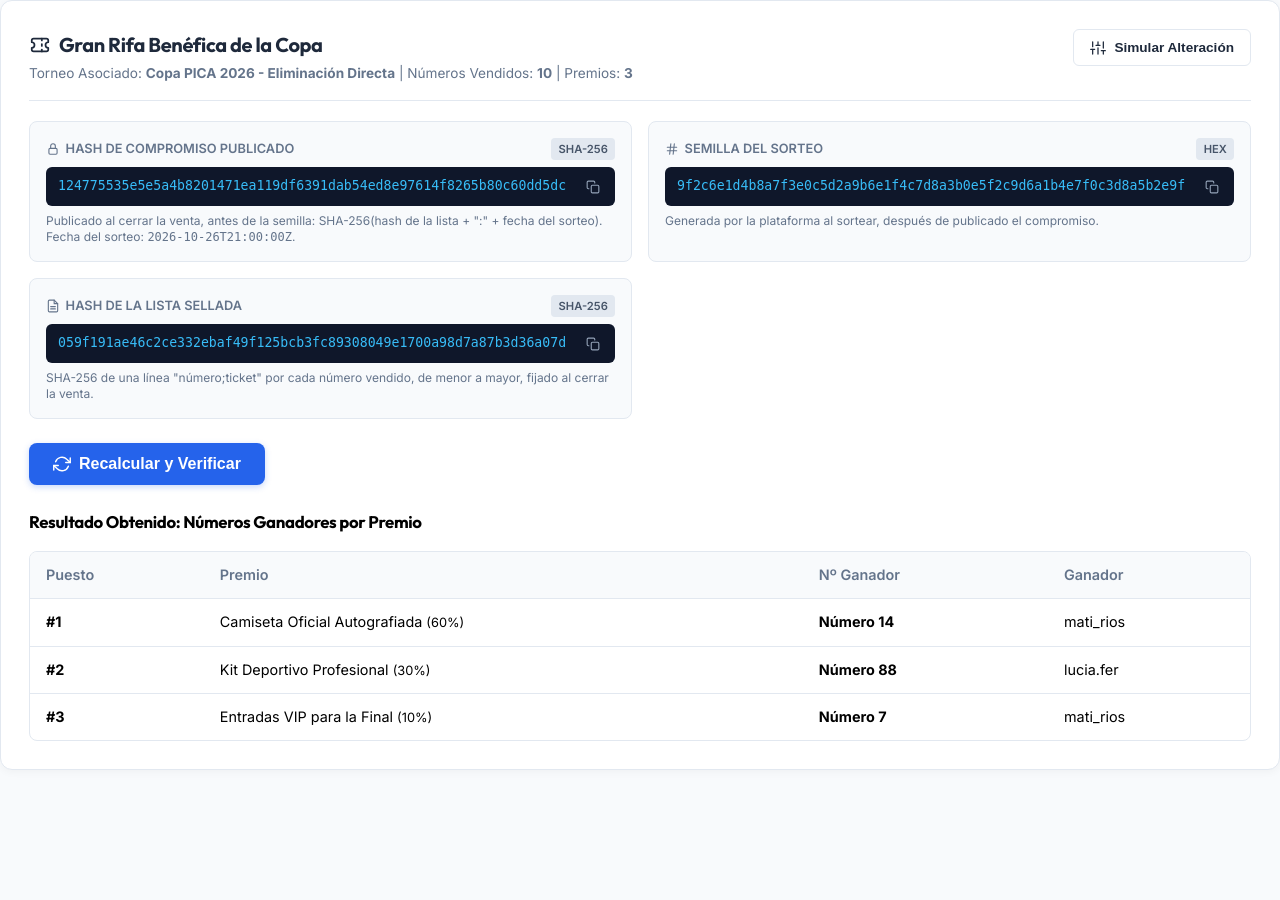
Test case: HU-504 / T504-3: Verificación de una rifa › Muestra la lista, el compromiso y la semilla, verifica los ganadores y detecta una alteración
This screenshot has width=1280, height=900.
Expected: the text "Gran Rifa Benéfica de la Copa" is shown, x1=59 y1=29 x2=322 y2=60
Expected: the text with test id "compromiso-hash-rifa" reads "124775535e5e5a4b8201471ea119df6391dab54ed8e97614f8265b80c60dd5dc", x1=58 y1=178 x2=566 y2=193
Click the button with test id "btn-recalcular-rifa" at (147, 464), box x1=29 y1=443 x2=265 y2=485
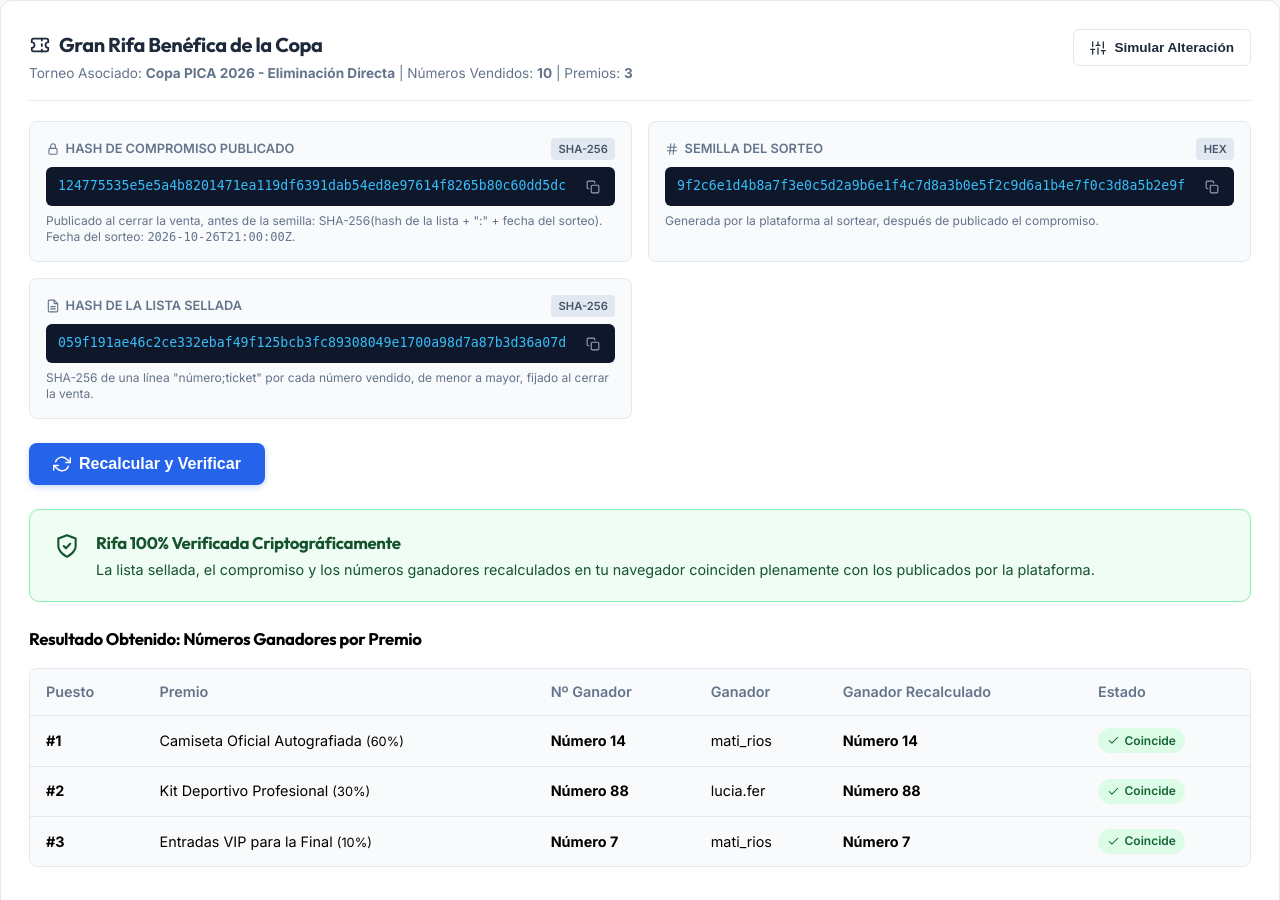
Result: the element with test id "banner-verificacion-exitosa-rifa" is shown at x1=29 y1=509 x2=1251 y2=602
Result: the text "Coincide" is shown 3 times at x1=1098 y1=728 x2=1185 y2=753; x1=1098 y1=779 x2=1185 y2=804; x1=1098 y1=829 x2=1185 y2=854
Note: Alterar la lista de vendidos cambia el hash de la lista
Click the button with test id "toggle-simulacion-rifa-btn" at (1162, 48), box x1=1073 y1=29 x2=1251 y2=66
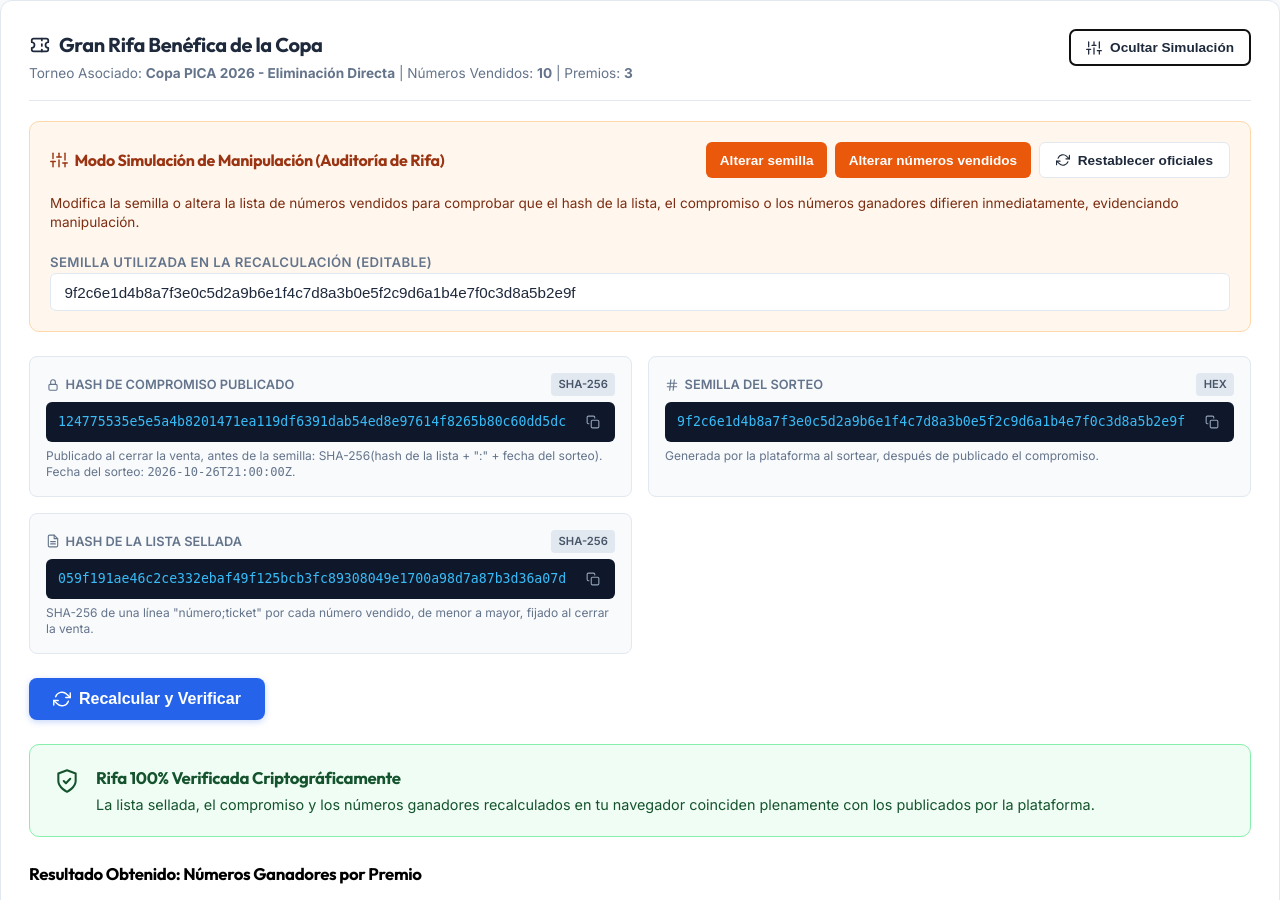
Click the button with test id "btn-alterar-numeros-rifa" at (933, 160), box x1=835 y1=142 x2=1031 y2=178
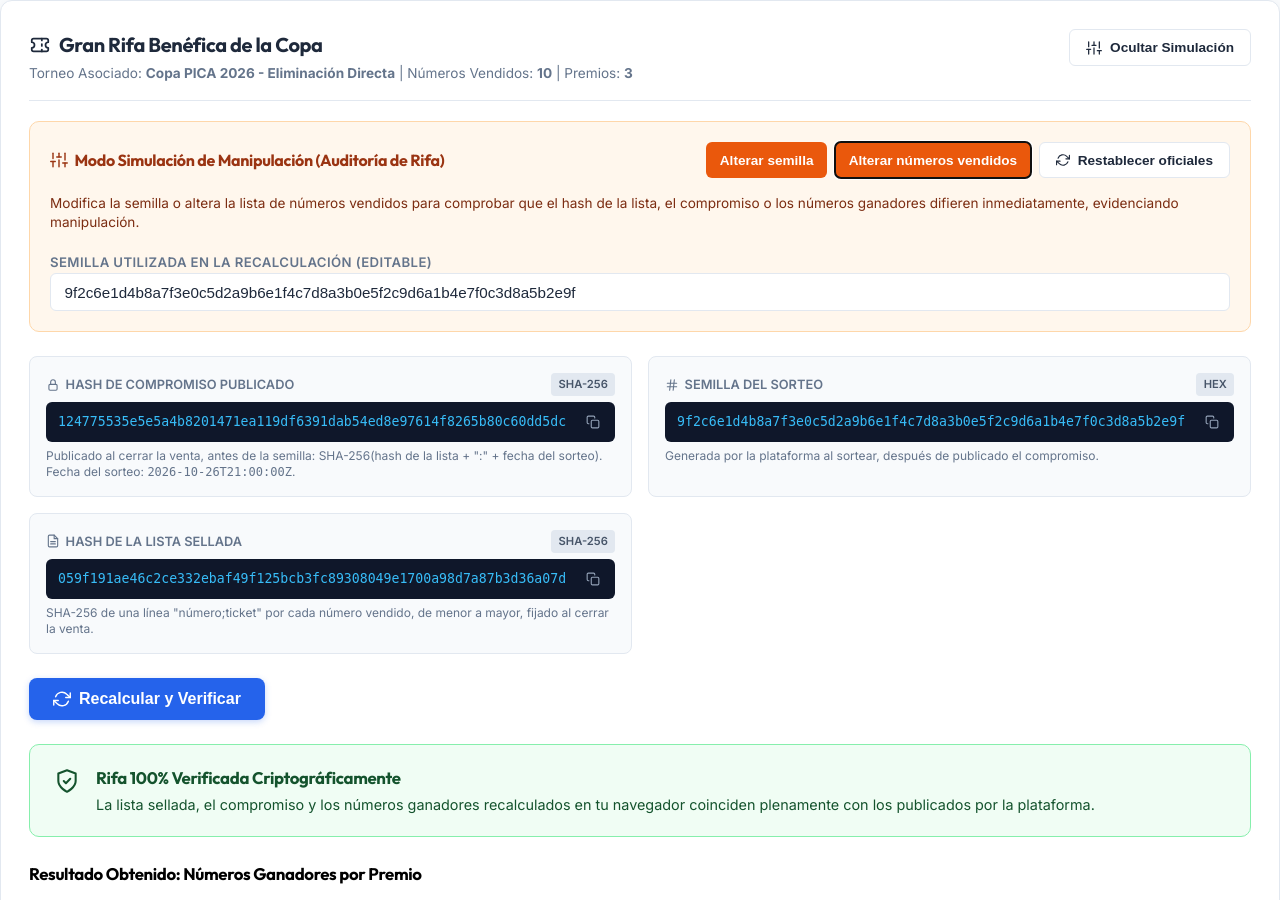
Click the button with test id "btn-recalcular-rifa" at (147, 699), box x1=29 y1=678 x2=265 y2=720
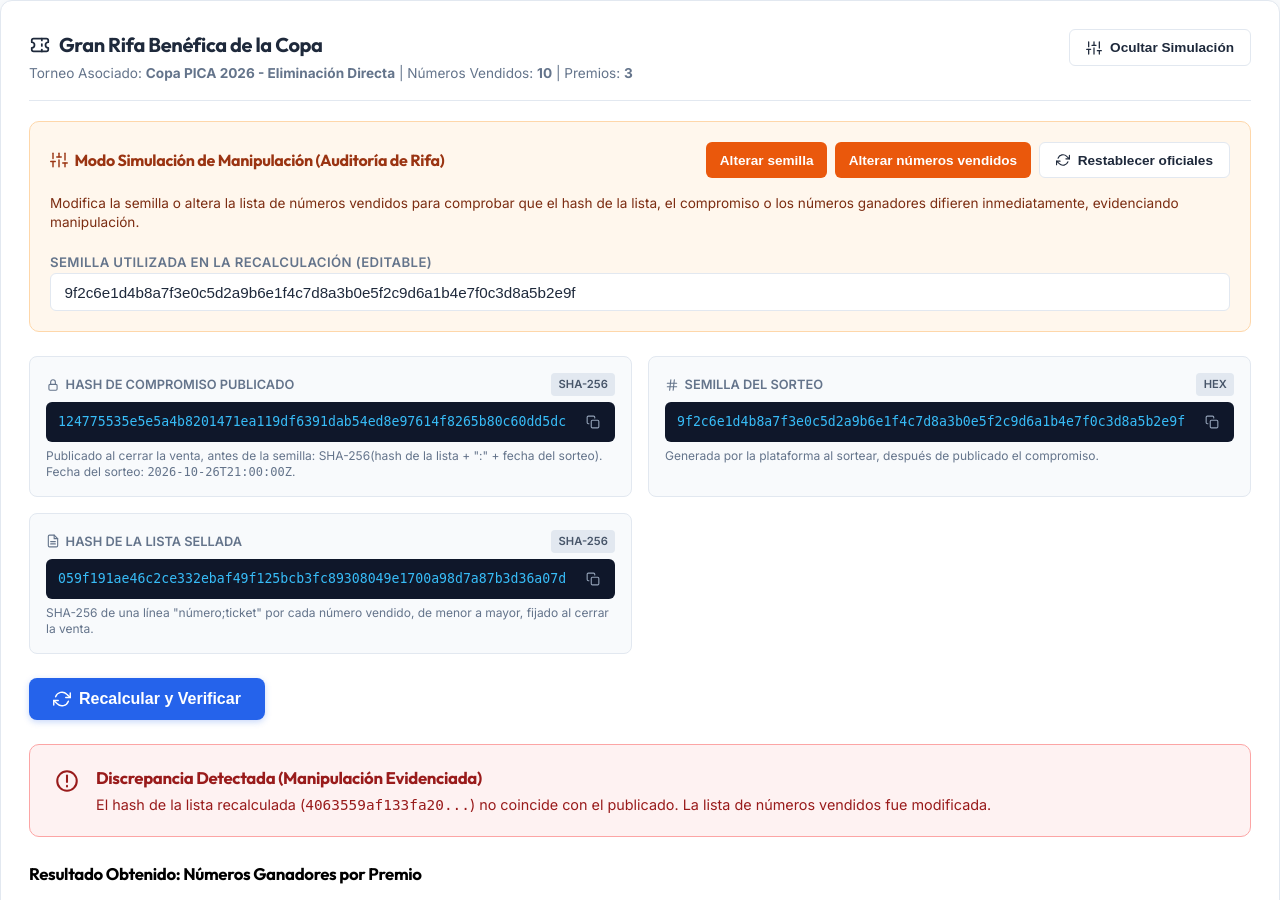
Result: the element with test id "banner-discrepancia-detectada-rifa" shows "la lista de números vendidos fue modificada" at x1=470 y1=796 x2=991 y2=813
